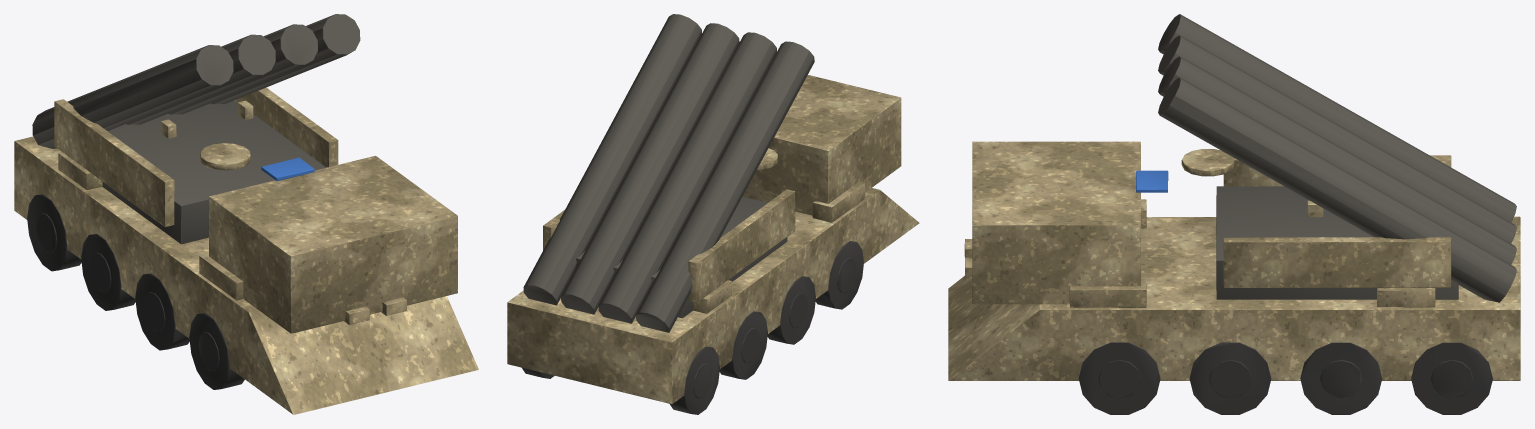
The model's file is sam_e4_us_launcher_LOD1.glb.
3 views of the same model, side by side, from view 1: azimuth 30°, elevation 25°; view 2: azimuth 150°, elevation 25°; view 3: azimuth 270°, elevation 25° (orthographic). The views are drawn at different scales.
Visible parts, largest first — view 1: sam_e4_us_launcher_LOD1_body, sam_e4_us_launcher_LOD1_deck, sam_e4_us_launcher_LOD1_track, sam_e4_us_launcher_LOD1_team; view 2: sam_e4_us_launcher_LOD1_deck, sam_e4_us_launcher_LOD1_body, sam_e4_us_launcher_LOD1_track; view 3: sam_e4_us_launcher_LOD1_body, sam_e4_us_launcher_LOD1_deck, sam_e4_us_launcher_LOD1_track, sam_e4_us_launcher_LOD1_team.
Boxes of the visible parts, bbox=[...] form: sam_e4_us_launcher_LOD1_body: bbox=[14, 87, 478, 414]; sam_e4_us_launcher_LOD1_deck: bbox=[32, 14, 360, 244]; sam_e4_us_launcher_LOD1_track: bbox=[27, 194, 244, 389]; sam_e4_us_launcher_LOD1_team: bbox=[261, 157, 314, 180]; sam_e4_us_launcher_LOD1_deck: bbox=[523, 14, 814, 332]; sam_e4_us_launcher_LOD1_body: bbox=[507, 75, 919, 404]; sam_e4_us_launcher_LOD1_track: bbox=[522, 241, 863, 414]; sam_e4_us_launcher_LOD1_body: bbox=[948, 141, 1520, 380]; sam_e4_us_launcher_LOD1_deck: bbox=[1158, 14, 1516, 302]; sam_e4_us_launcher_LOD1_track: bbox=[1078, 342, 1492, 414]; sam_e4_us_launcher_LOD1_team: bbox=[1136, 170, 1168, 192].
Bounding box in the file's own units: 3.04 × 4.81 × 7.79.
5 materials, 1 textured.
